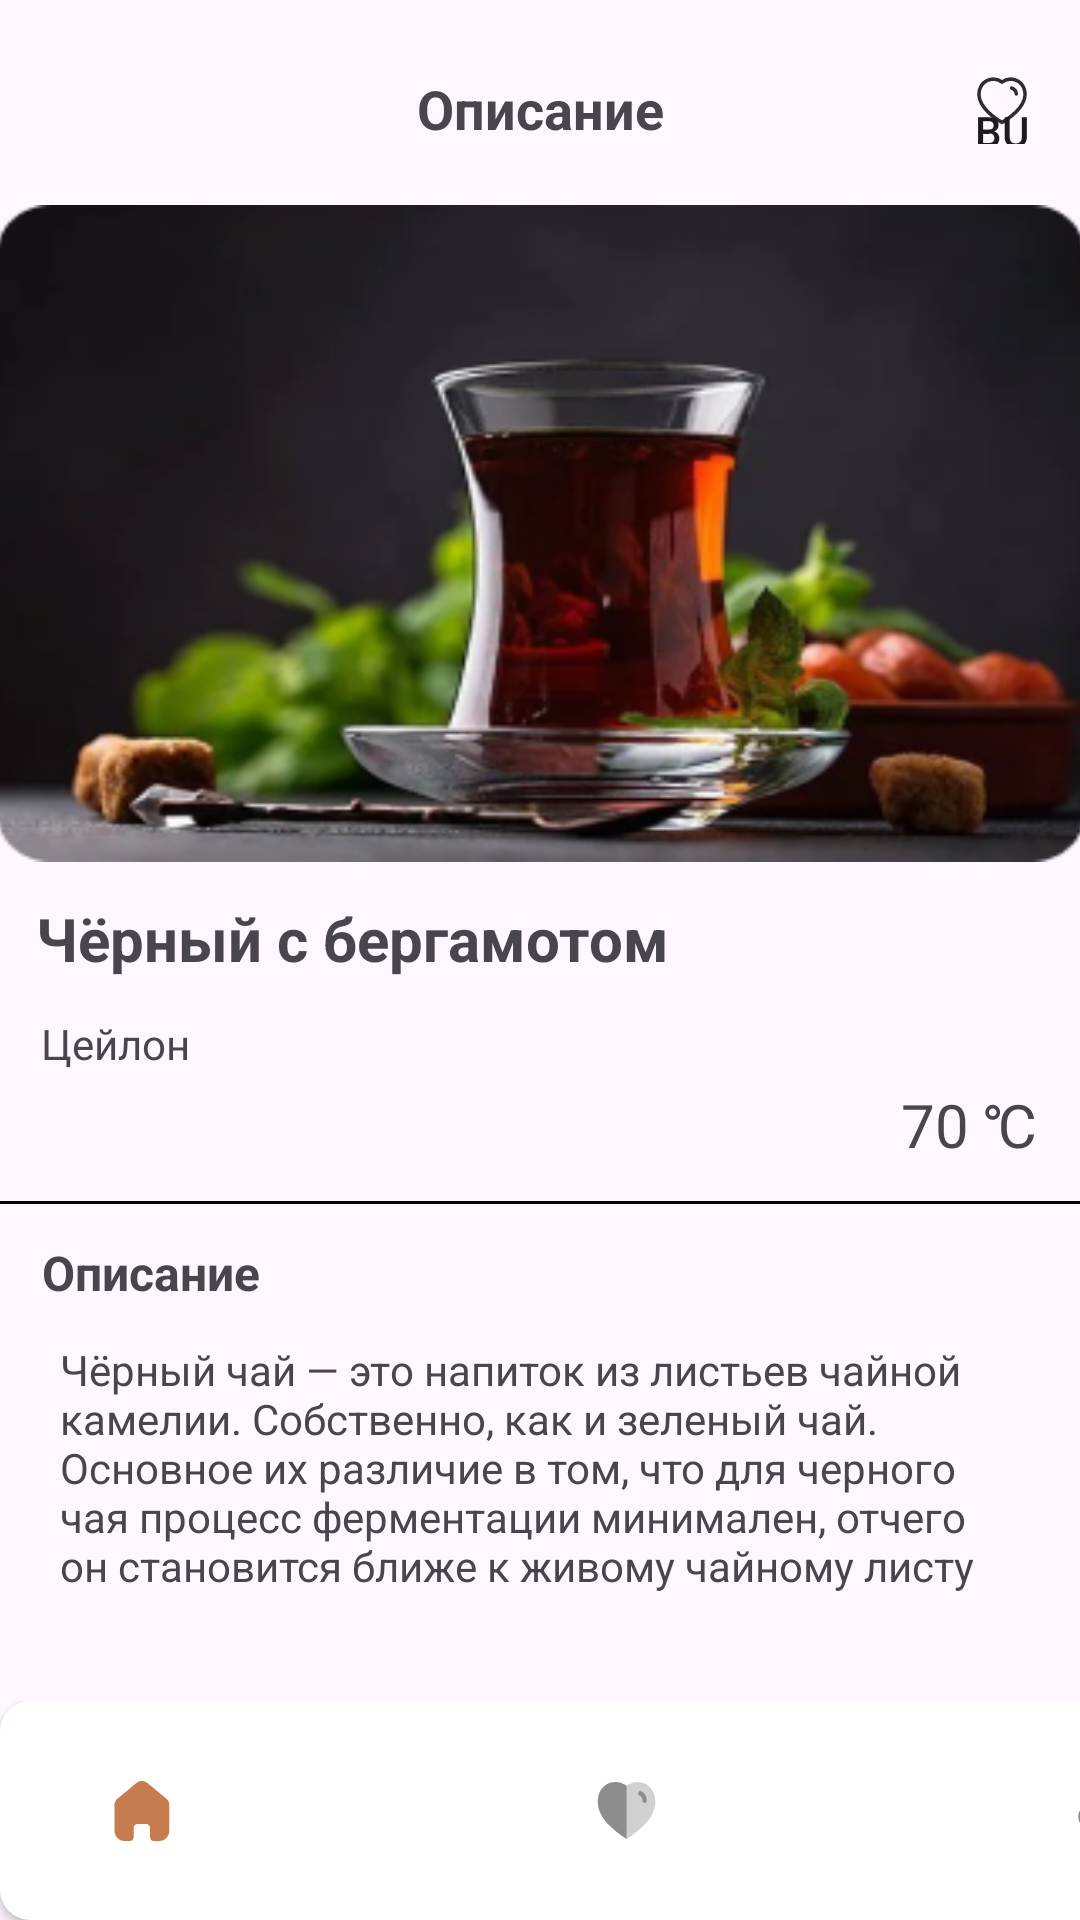

Icons on this 1080x1920 Android screen, each with the point to tap as (x=x, y=y):
heart menu: (x=626, y=1810)
